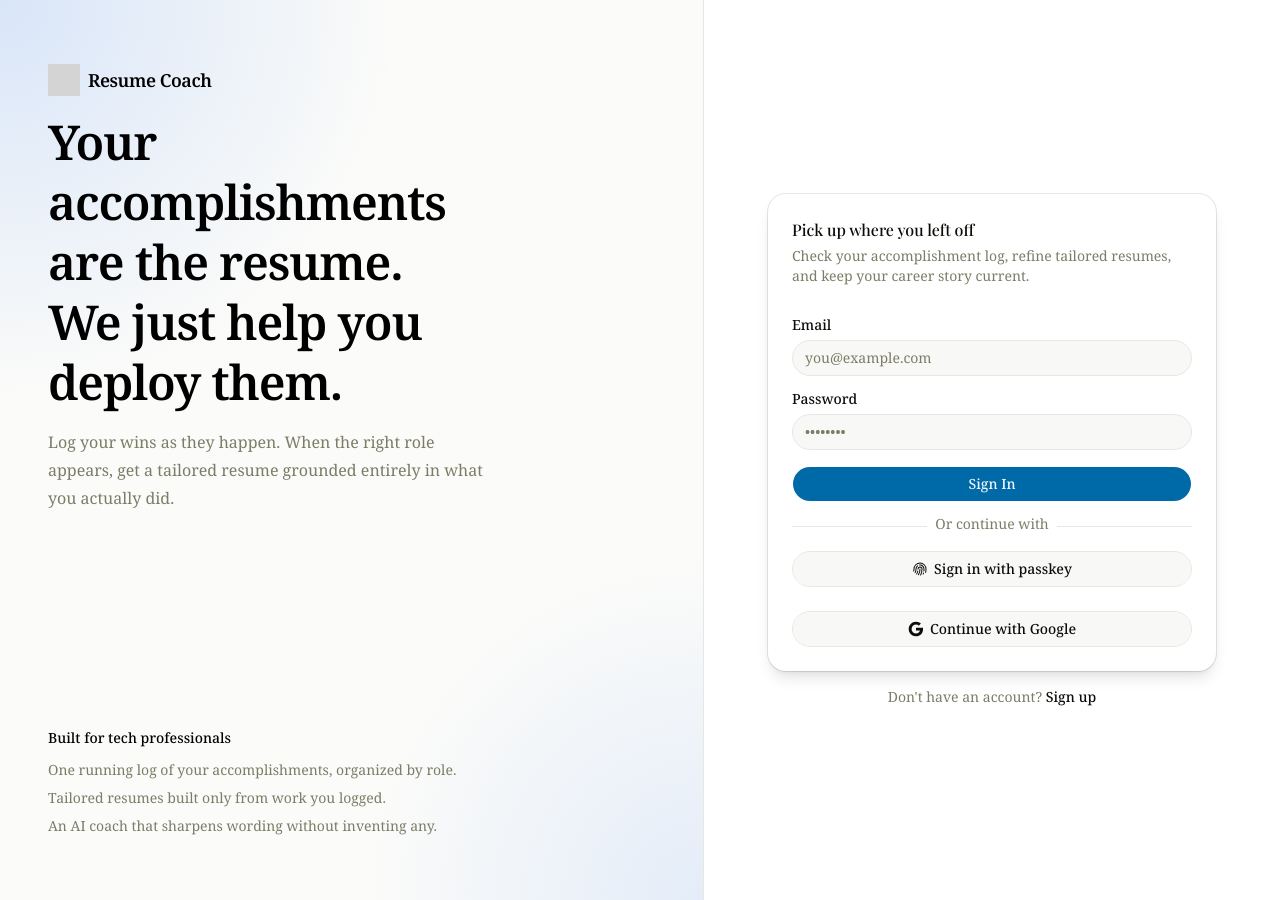
LoginPage › explains a rejected passkey and keeps password sign-in available
Click the button "Sign in with passkey" at (992, 568), box [792,550,1192,586]
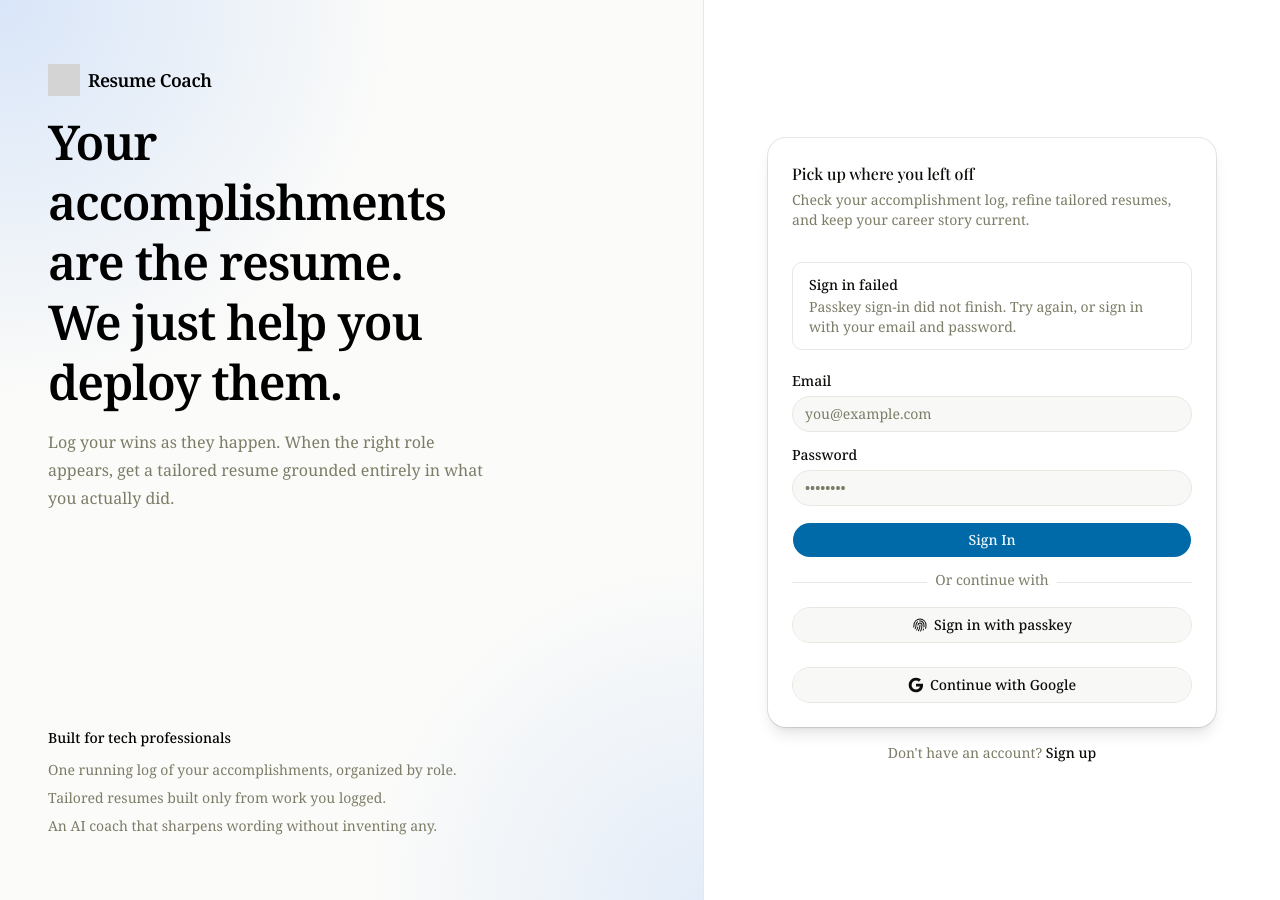
Expected: the button "Sign In" is enabled, [792,522,1192,558]
Expected: the text "Sign in failed" is shown, [809,274,898,294]
